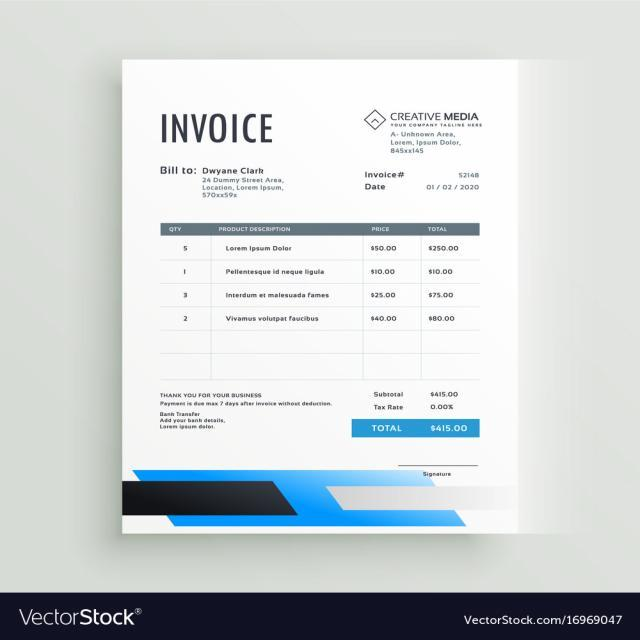customer_address: (199, 178, 290, 205)
customer_name: (200, 162, 285, 175)
invoice_date: (415, 182, 487, 197)
invoice_number: (438, 170, 485, 179)
invoice_subtotal: (422, 387, 468, 399)
invoice_total: (423, 420, 479, 437)
item_description: (214, 238, 326, 334)
item_quantity: (173, 240, 198, 332)
item_total_price: (425, 242, 462, 326)
item_unit_price: (360, 241, 408, 328)
supplier_name: (388, 105, 484, 122)
tax_rate: (425, 402, 464, 416)
